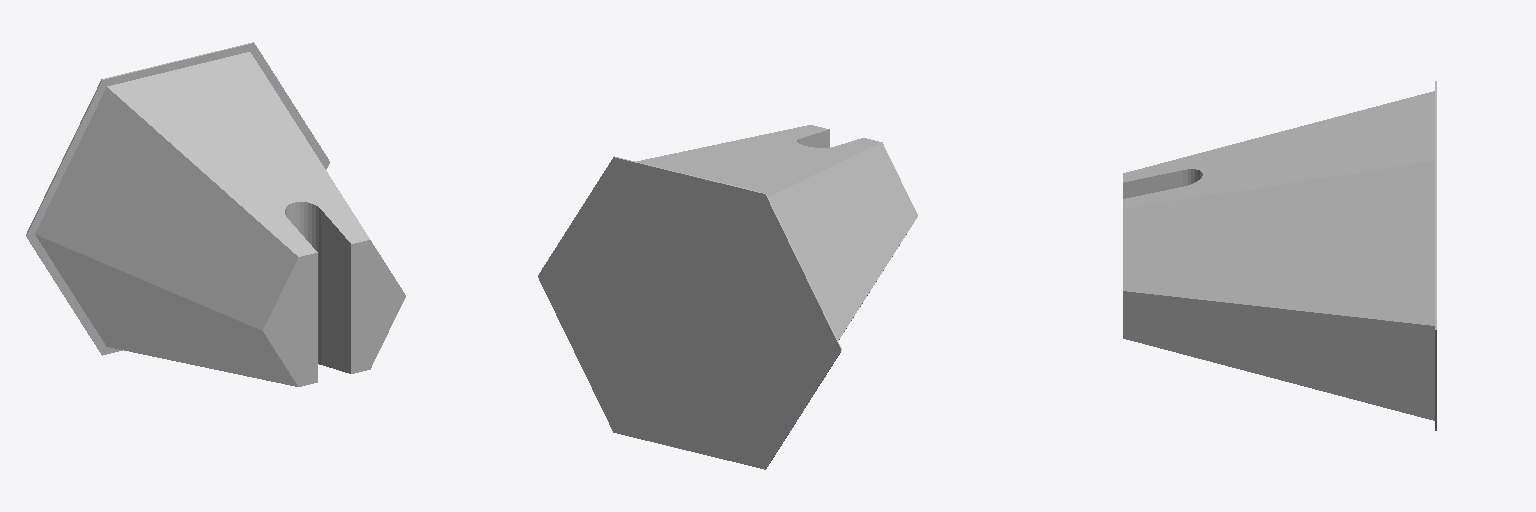
Rendered from kipsta2.obj.
3 renders of one model, left to right at view 1: azimuth 30°, elevation 25°; view 2: azimuth 150°, elevation 25°; view 3: azimuth 270°, elevation 25°, orthographic.
Parts seen in each view (by area): view 1: Object.1; view 2: Object.1; view 3: Object.1.
Part boxes in pixels (x1,y1,x2,y2): Object.1: (26, 42, 405, 386); Object.1: (538, 125, 917, 469); Object.1: (1123, 81, 1436, 430).
Size of the model in its own units: 180 by 156 by 161.